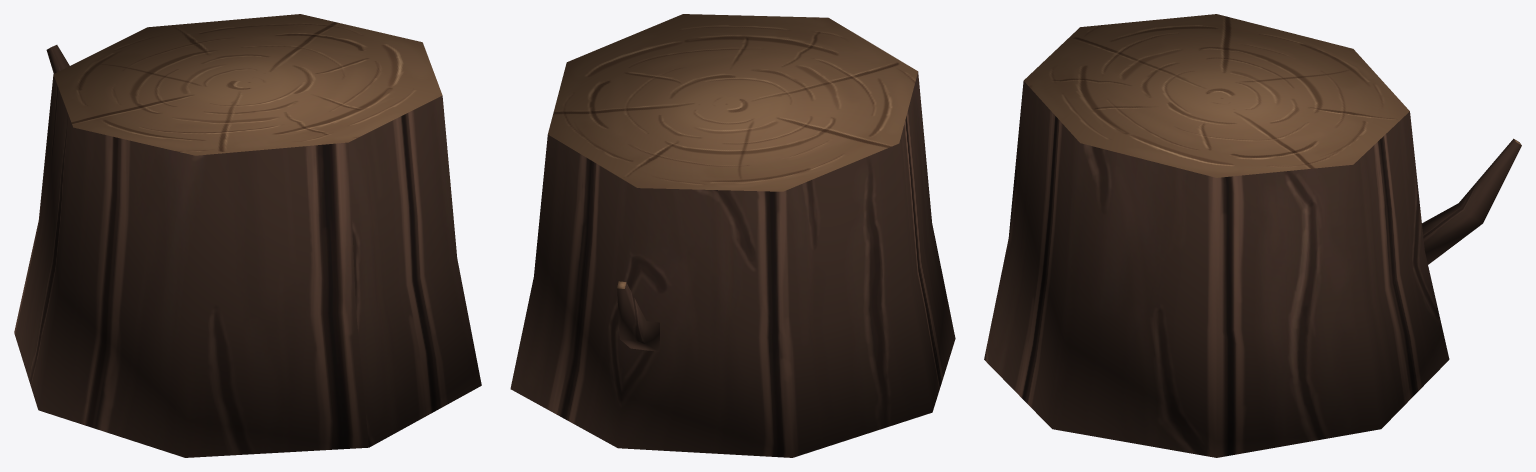
The model's file is TreeStump.fbx.
The picture shows the model from 3 angles, left to right: view 1: azimuth 30°, elevation 25°; view 2: azimuth 150°, elevation 25°; view 3: azimuth 270°, elevation 25°; orthographic projection. The views are drawn at different scales.
Visible parts, largest first — view 1: Cylinder; view 2: Cylinder; view 3: Cylinder.
Part boxes in pixels (x1,y1,x2,y2): Cylinder: (14,14,481,457); Cylinder: (510,14,955,457); Cylinder: (984,14,1521,457).
Bounding box in the file's own units: 0.288 × 0.1905 × 0.3328.
